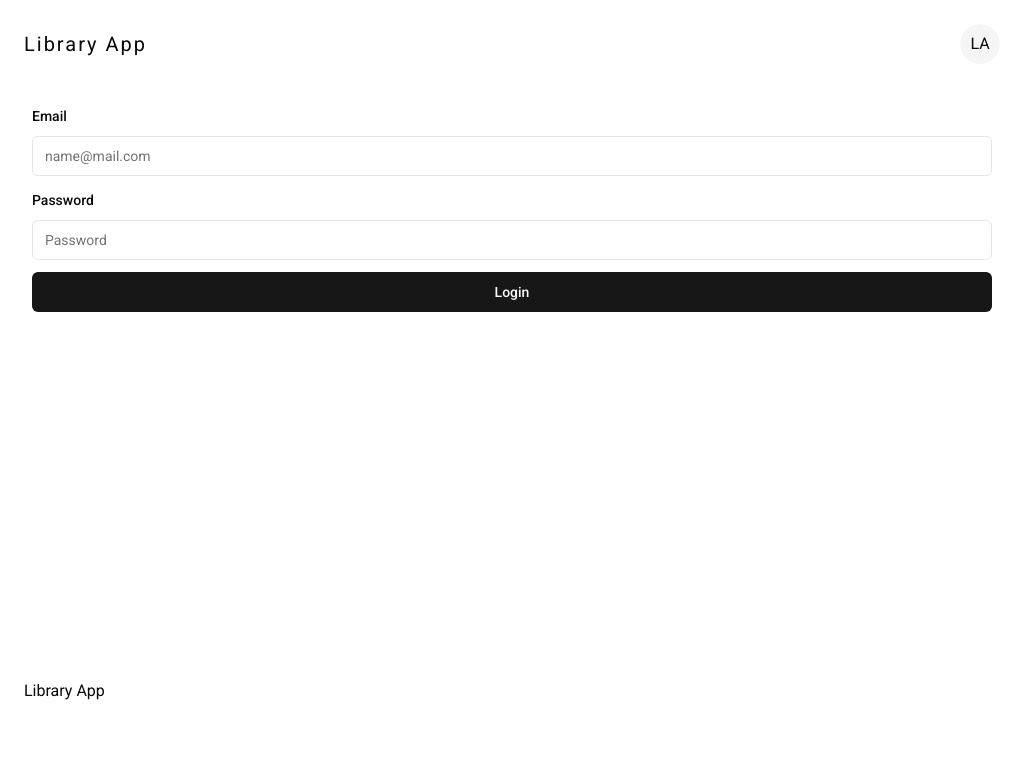
Scenario: Login Page › Action for Login › should show error message when some of input is missing a value
Step 1. Click the button with aria-label "btn-submit" → (512, 292), box [32,272,992,312]
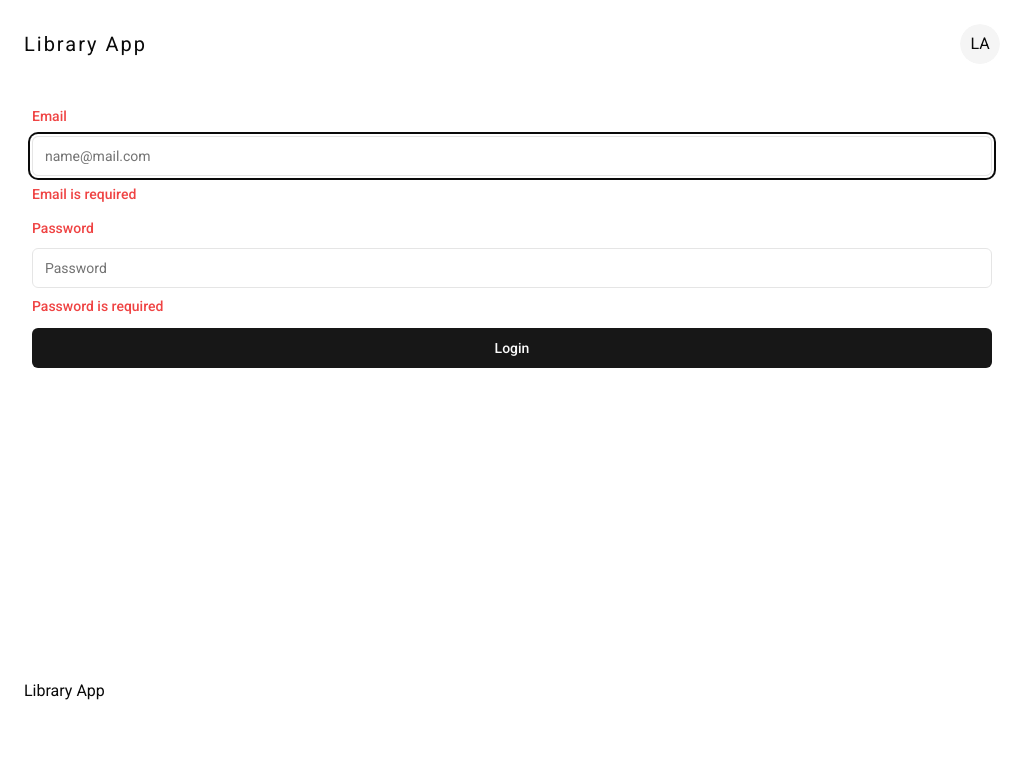
Now the text "Email is required" is shown, box [32,186,136,202]
Now the text "Password is required" is shown, box [32,298,163,314]
